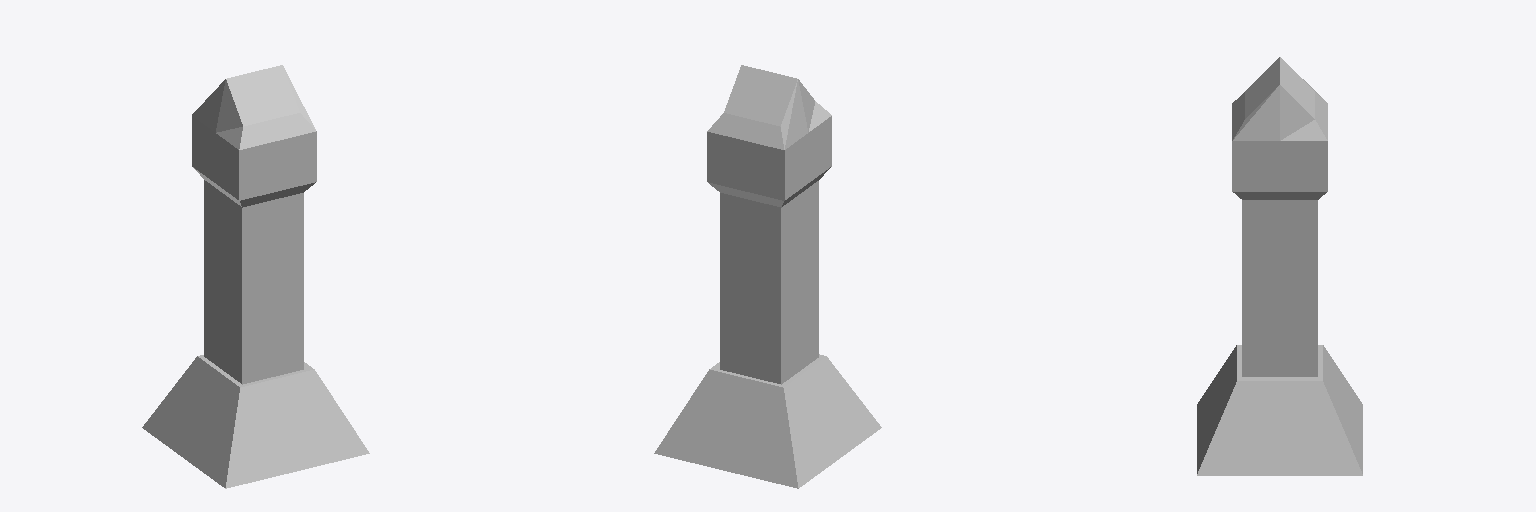
Rendered from clocktower.obj.
3 renders of one model, left to right at view 1: azimuth 30°, elevation 25°; view 2: azimuth 150°, elevation 25°; view 3: azimuth 270°, elevation 25°, orthographic.
Parts seen in each view (by area): view 1: Cube; view 2: Cube; view 3: Cube.
Part boxes in pixels (left/top/right/bottom): Cube: left=142, top=65, right=369, bottom=488; Cube: left=654, top=65, right=881, bottom=488; Cube: left=1197, top=57, right=1362, bottom=475.
Size of the model in its own units: 3.89 by 9.48 by 3.89.